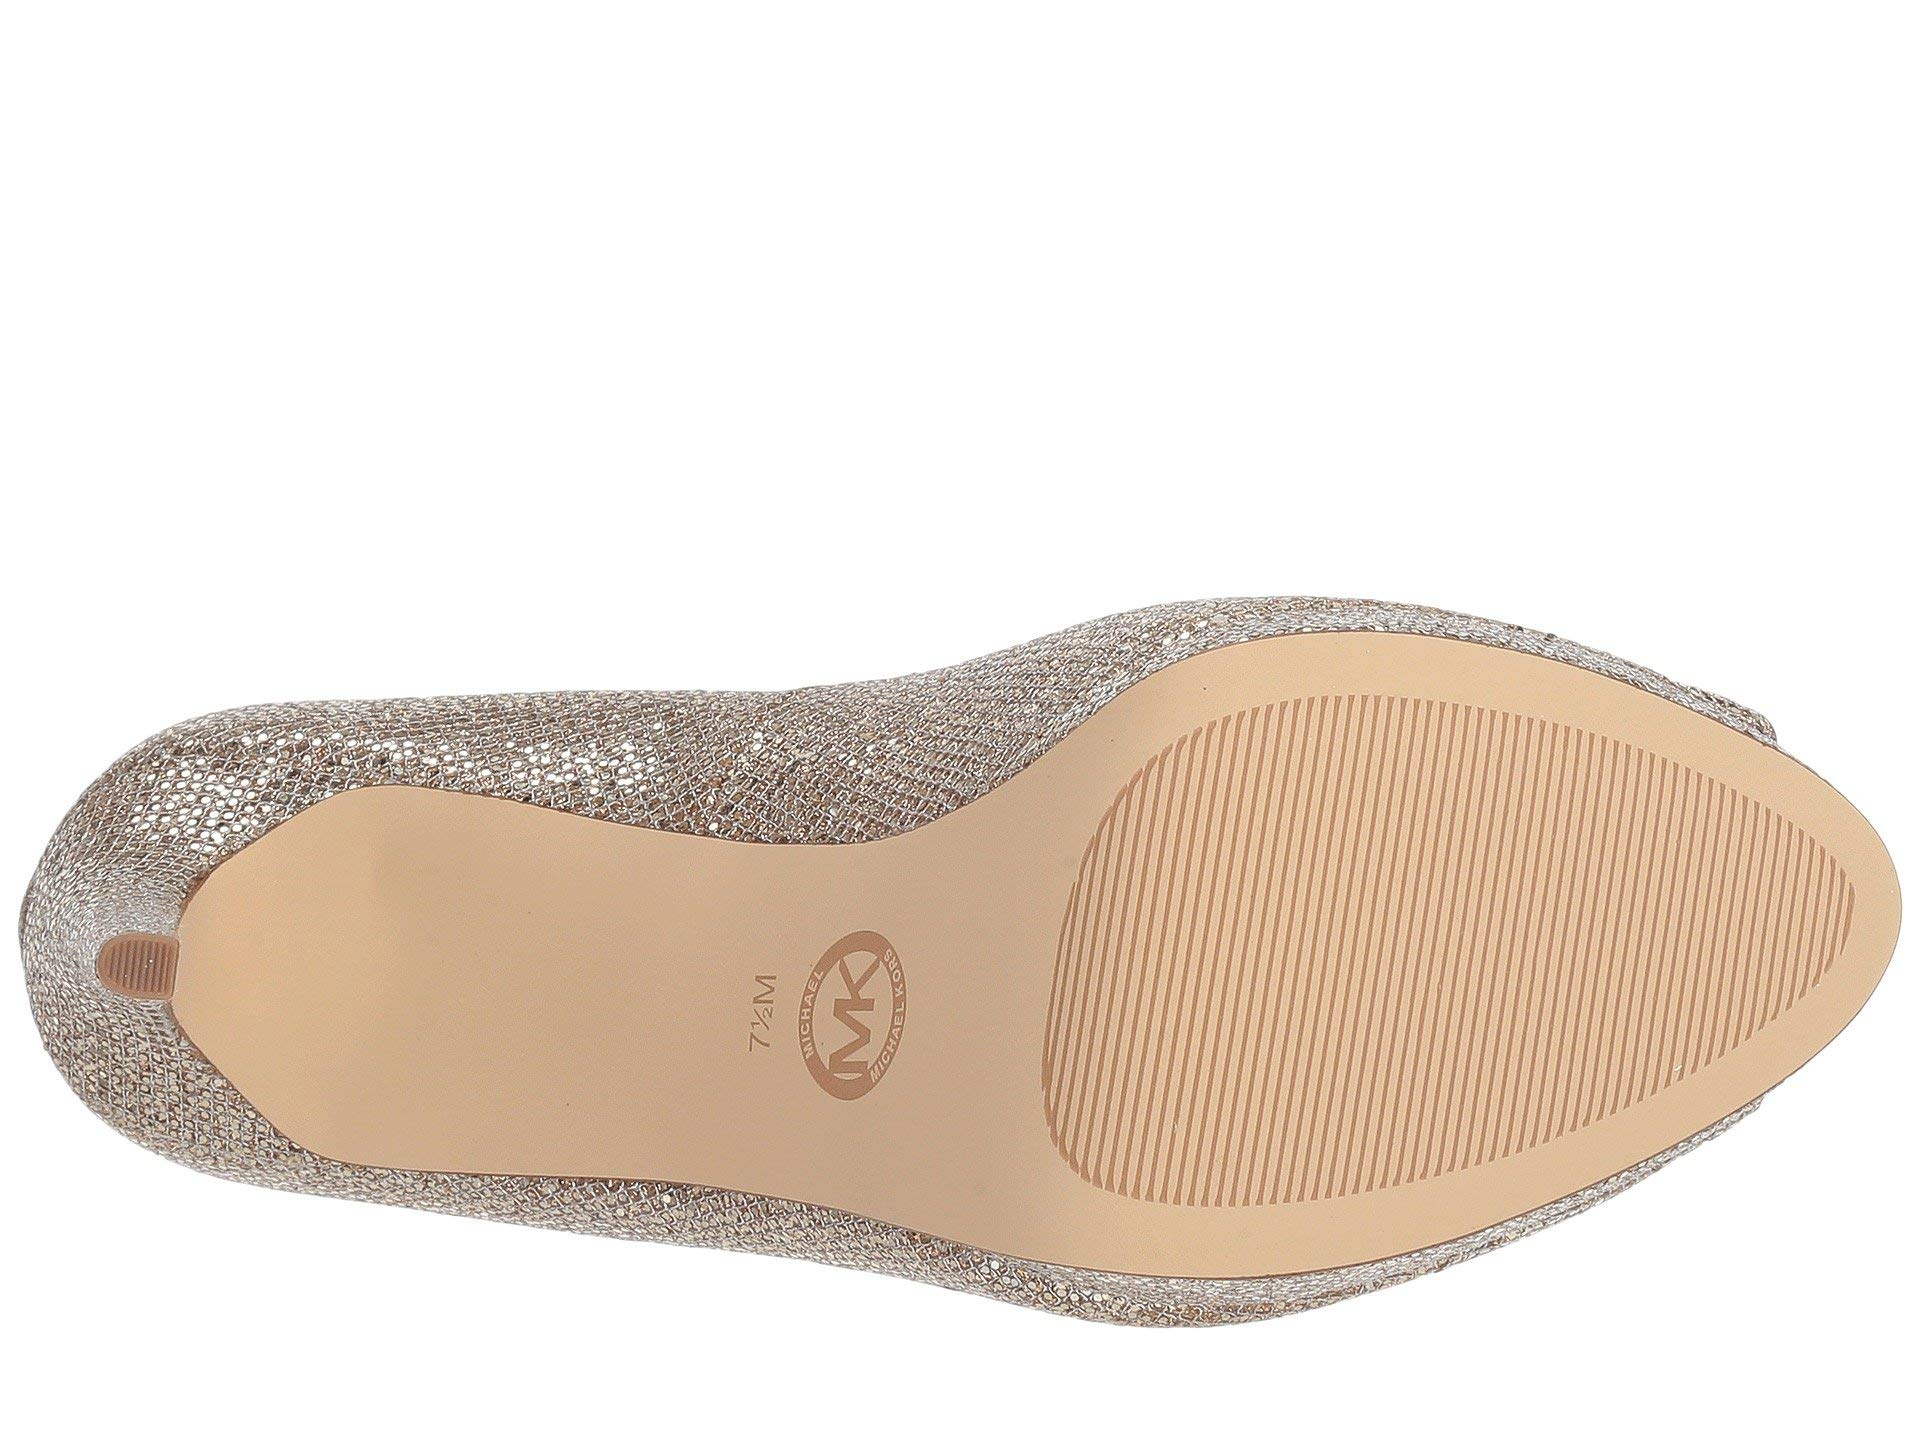line: (1175, 774, 1544, 1166)
